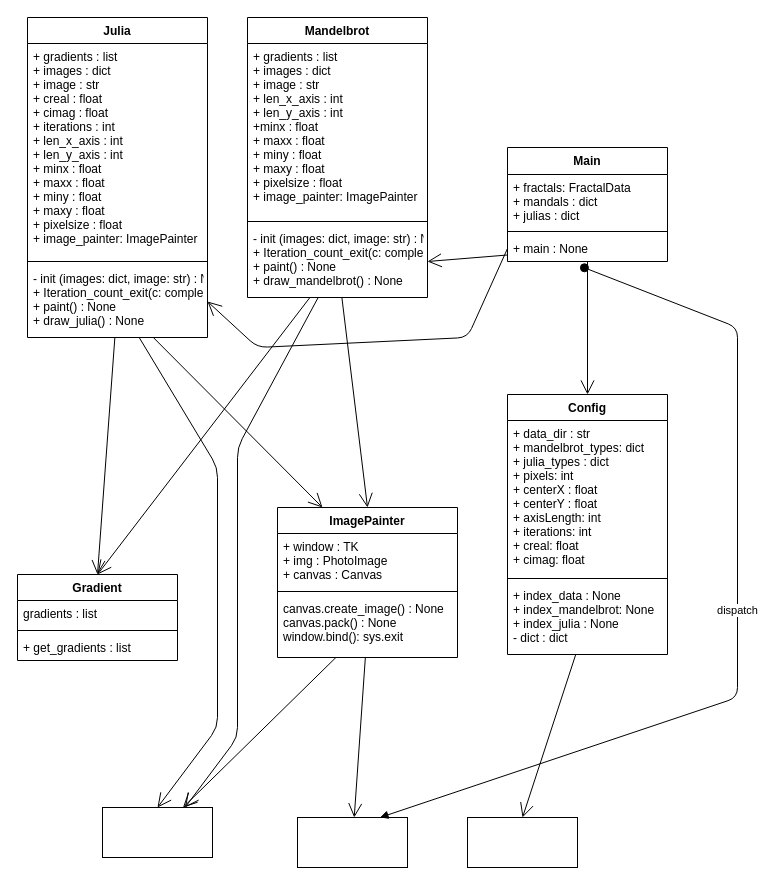
This 775x885 diagram has some shape labels left out. The shapes that lost their labels are listed below. From the top down, each one's centre as x and y in pixels, then its label:
point (157, 832): Tkinter
point (352, 842): sys
point (522, 842): OS
